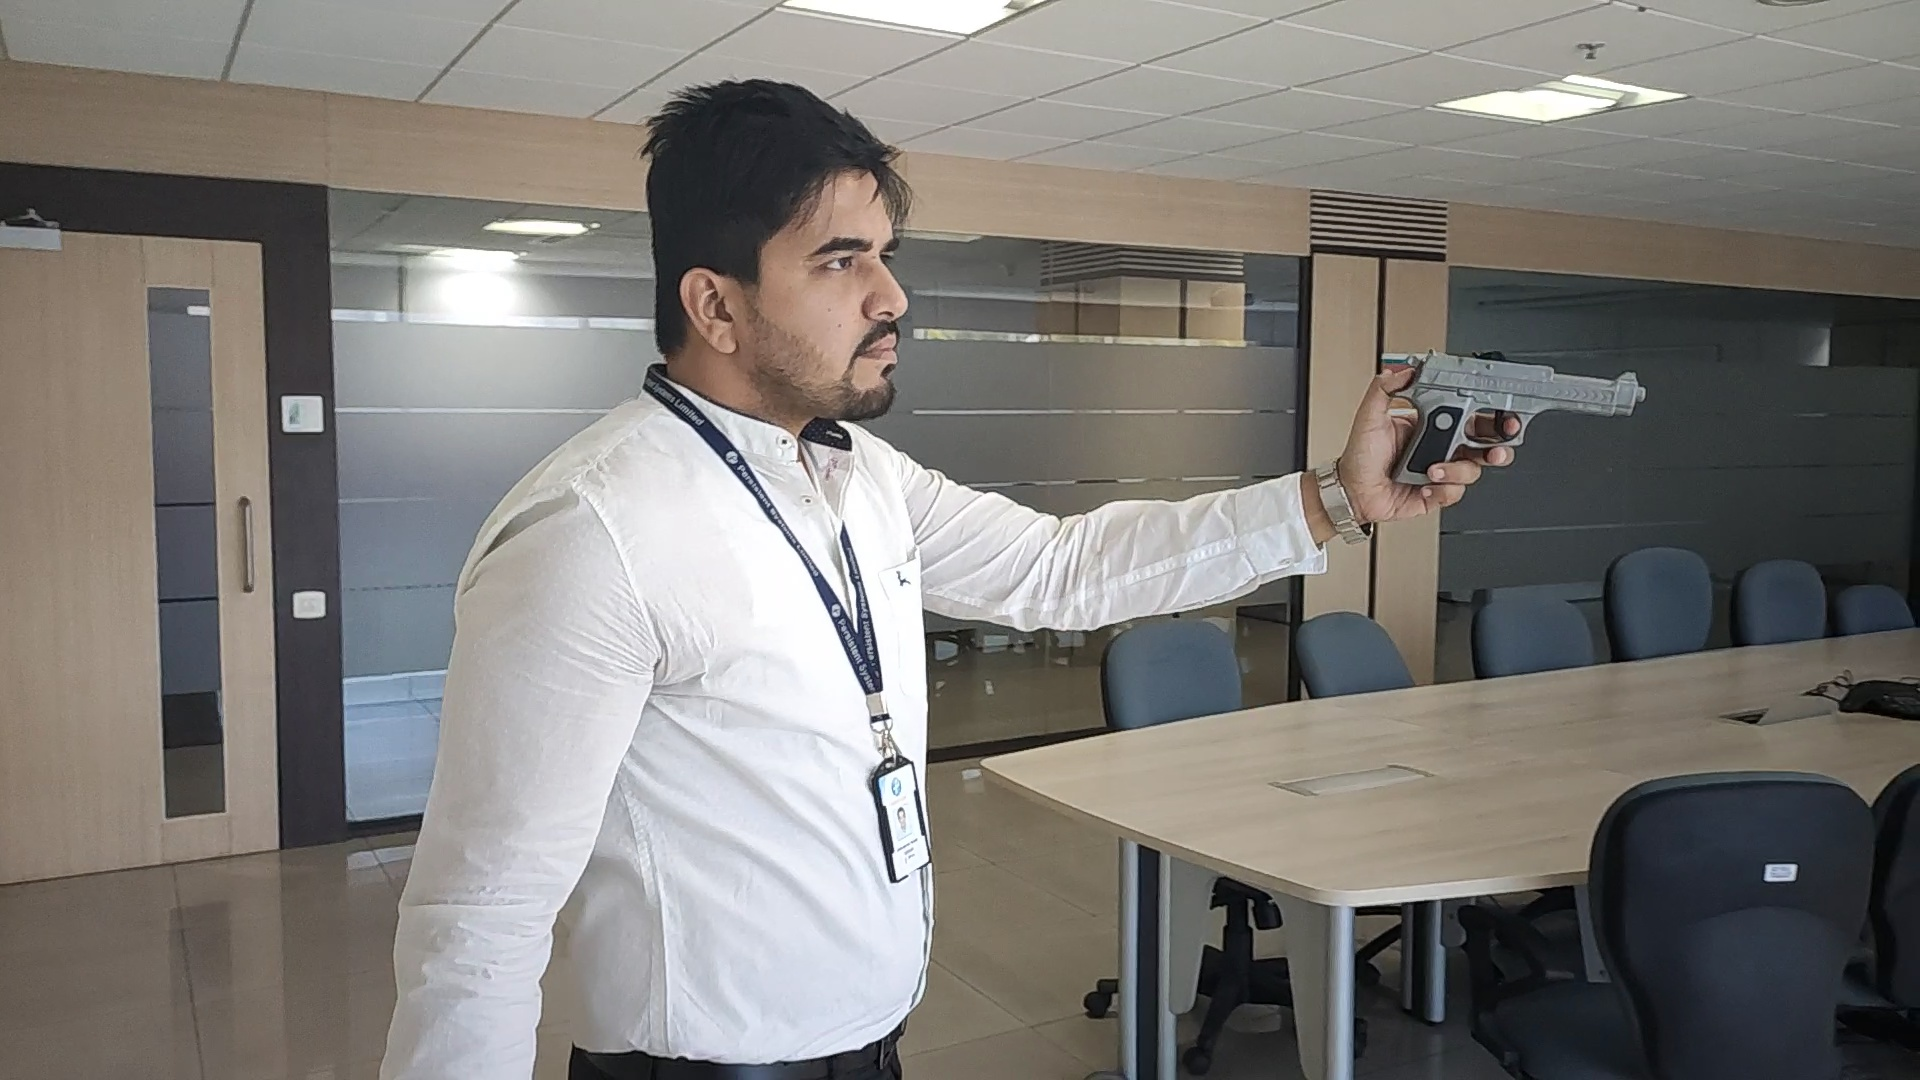gun: (1385, 345, 1644, 491)
